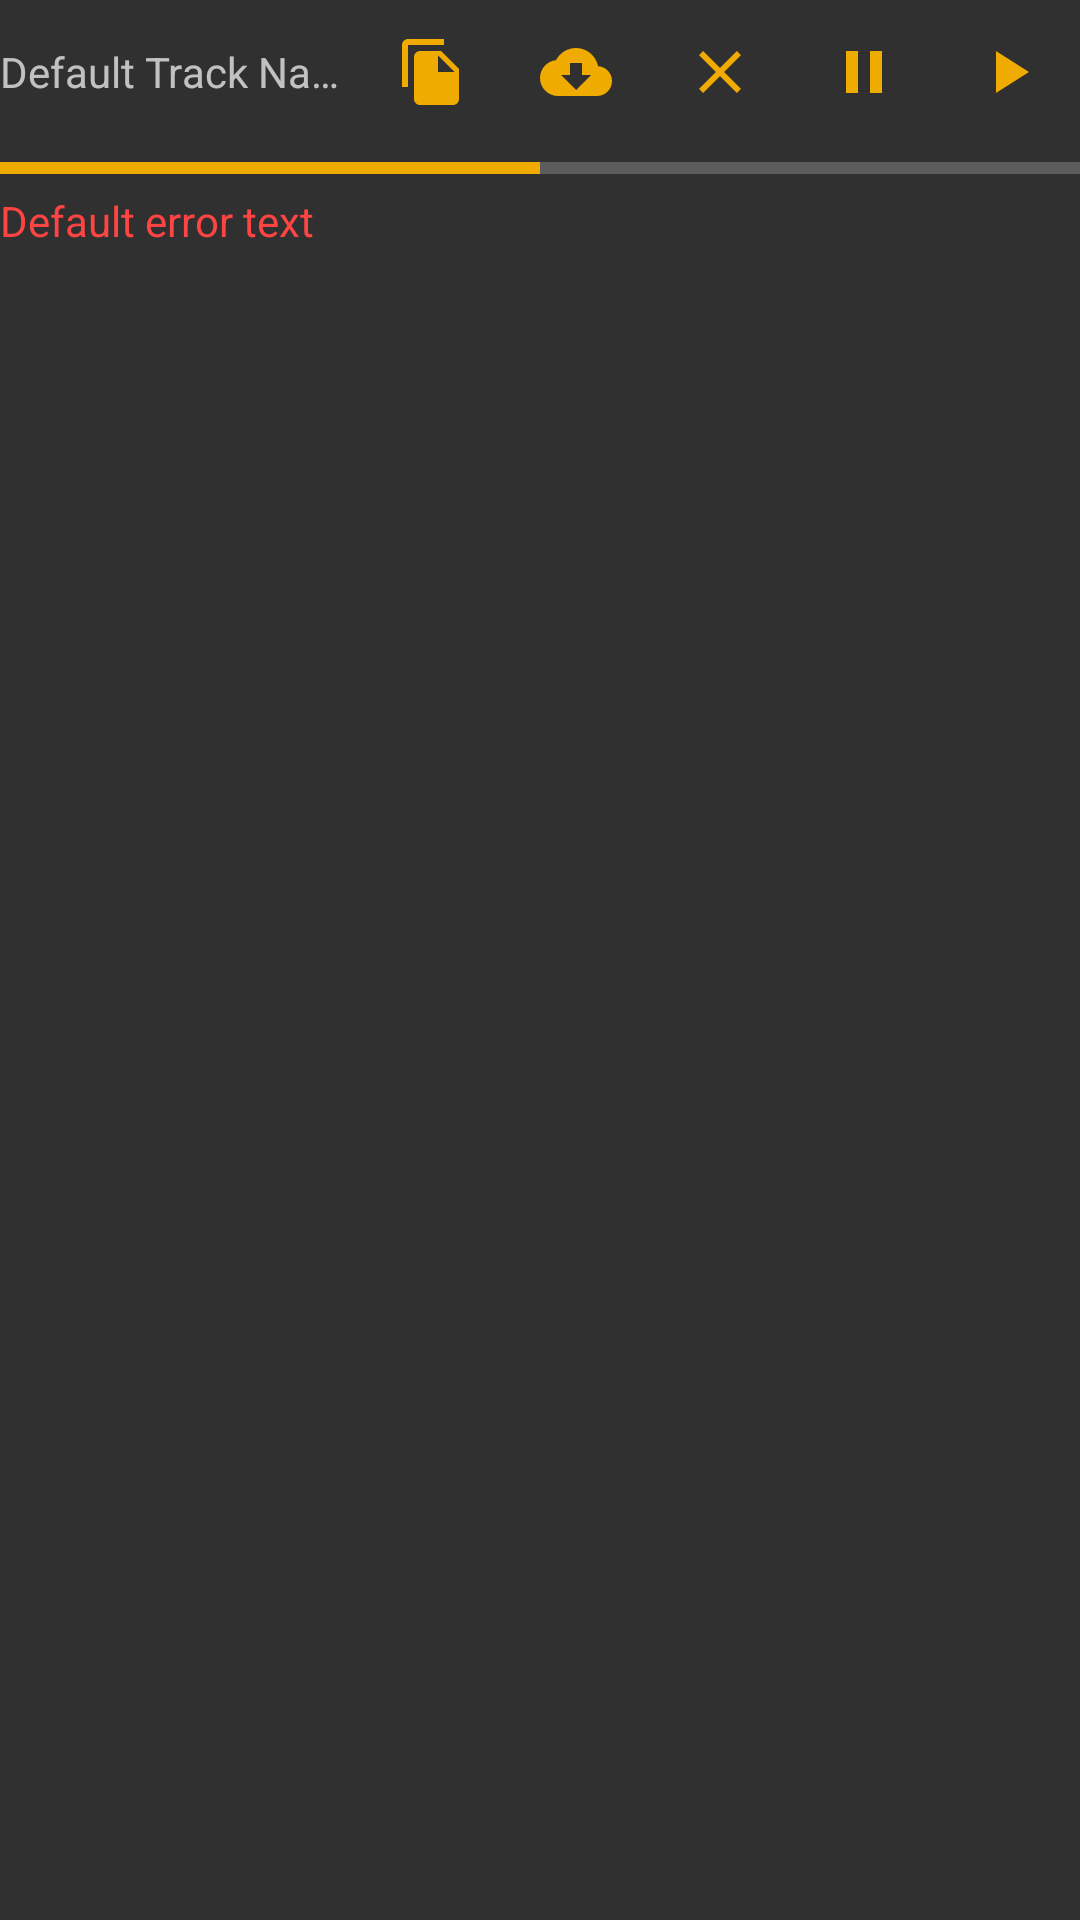

Where to tap for icons on this 1080 x 1920 app screen, as point (x, y):
Cancel: point (720, 72)
Copy: point (430, 72)
Download: point (576, 72)
Pause: point (864, 72)
Play: point (1012, 72)
